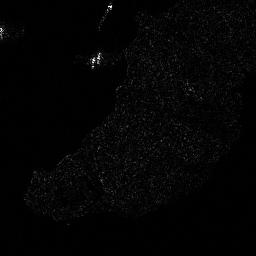ship: (99, 2, 112, 29)
